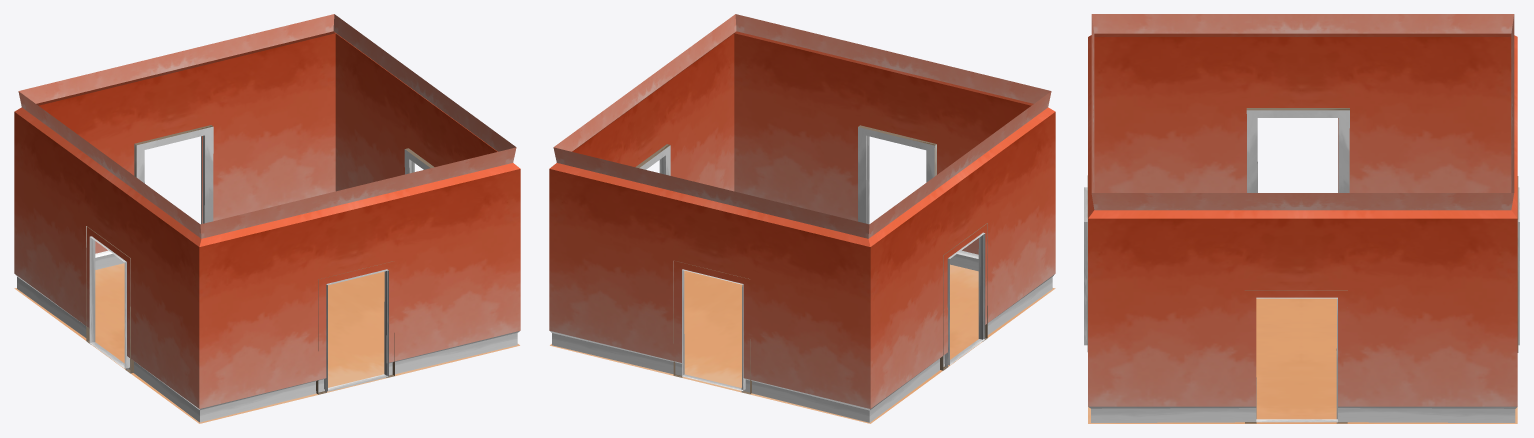
File: Room_8x8_01.gltf
The picture shows the model from 3 angles, left to right: view 1: azimuth 30°, elevation 25°; view 2: azimuth 150°, elevation 25°; view 3: azimuth 270°, elevation 25°; orthographic projection. The views are drawn at different scales.
Parts seen in each view (by area): view 1: Room_8x8_01; view 2: Room_8x8_01; view 3: Room_8x8_01.
Part boxes in pixels (bbox=[...]): Room_8x8_01: bbox=[14, 14, 520, 423]; Room_8x8_01: bbox=[549, 14, 1055, 423]; Room_8x8_01: bbox=[1084, 14, 1519, 423].
Size of what is drawn, in the model's own units: 8 by 4.65 by 8.
Materials: 1 (1 with a texture image).
